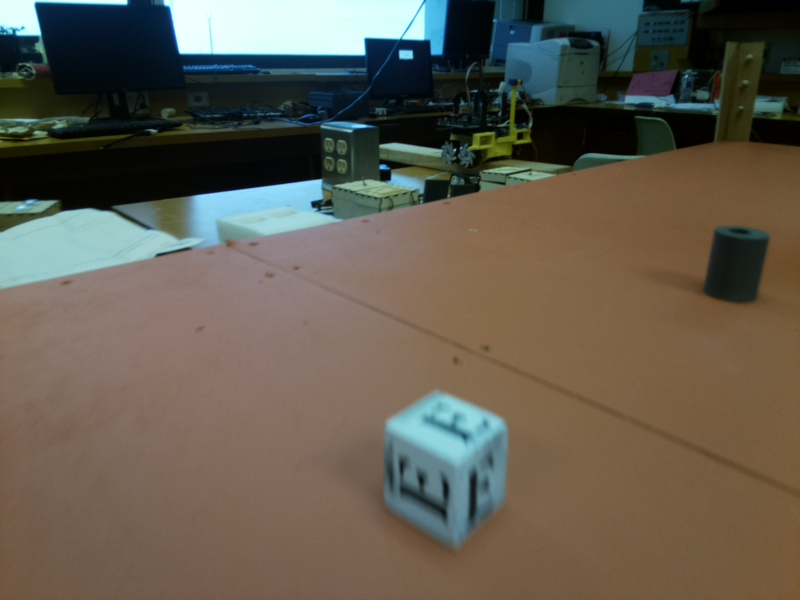blockE: (397, 391, 513, 536)
corner: (717, 45, 762, 134)
obstacle: (707, 226, 770, 301)
